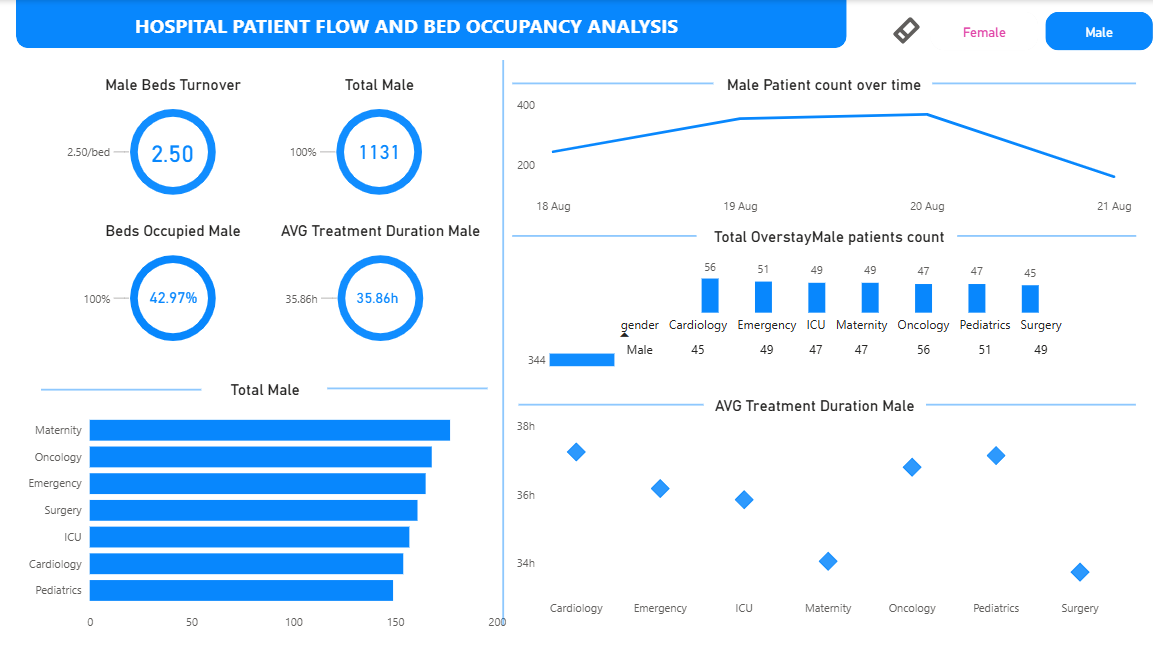

What the dashboard file says about the page in this screenshot:
{"tool":"powerbi","page":{"name":"Hoapital_Dashboard","canvas":[1280,720],"ordinal":0},"visuals":[{"type":"donutChart","fields":{"Y":["Sum(vw_patient_demographics.total_patients)"],"Category":["vw_patient_demographics.gender"]},"box":[281,82,290,150],"z":0},{"type":"lineChart","fields":{"Y":["Sum(vw_patient_volume_trend.patient_count)"],"Series":["vw_patient_volume_trend.gender"],"Category":["vw_patient_volume_trend.admission_date.Variation.Date Hierarchy.Year","vw_patient_volume_trend.admission_date.Variation.Date Hierarchy.Quarter","vw_patient_volume_trend.admission_date.Variation.Date Hierarchy.Month","vw_patient_volume_trend.admission_date.Variation.Date Hierarchy.Day"]},"box":[571.9,81.7,684.7,162.4],"z":1000},{"type":"barChart","fields":{"Category":["vw_department_inflow.department"],"Y":["Sum(vw_department_inflow.patient_count)"],"Series":["vw_department_inflow.gender"]},"box":[32,417,539,284],"z":2000},{"type":"pivotTable","fields":{"Values":["Sum(vw_overstay_patients.overstay_count)"],"Rows":["vw_overstay_patients.gender"],"Columns":["vw_overstay_patients.department"]},"box":[681,340,559,79],"z":3000},{"type":"donutChart","fields":{"Category":["vw_bed_turnover_rate.gender"],"Y":["Sum(vw_bed_turnover_rate.bed_turnover_rate)"]},"box":[55,82,290,150],"z":4000},{"type":"advancedSlicerVisual","fields":{"Values":["dim_patient.gender"]},"box":[1026,8,254,52],"z":5000},{"type":"scatterChart","fields":{"X":["vw_avg_treatment_duration.department"],"Y":["Sum(vw_avg_treatment_duration.avg_treatment_duration)"],"Series":["vw_avg_treatment_duration.gender"]},"box":[572,435,664,251],"z":6000},{"type":"clusteredBarChart","fields":{"Category":["vw_overstay_patients.gender"],"Y":["Sum(vw_overstay_patients.overstay_count)"]},"box":[584,357,105,70],"z":7000},{"type":"clusteredColumnChart","fields":{"Category":["vw_overstay_patients.department"],"Y":["Sum(vw_overstay_patients.overstay_count)"]},"box":[775,274,382,75],"z":8000},{"type":"card","fields":{"Values":["Sum(vw_patient_demographics.total_patients)"]},"box":[357,142,139,51],"z":9000},{"type":"card","fields":{"Values":["Sum(vw_bed_turnover_rate.bed_turnover_rate)"]},"box":[106,127,187,81],"z":10000},{"type":"donutChart","fields":{"Y":["Avg(vw_avg_treatment_duration.avg_treatment_duration)"],"Category":["vw_avg_treatment_duration.gender"]},"box":[282.1,243.3,290,150],"z":11000},{"type":"donutChart","fields":{"Series":["vw_bed_occupancy.gender"],"Y":["Sum(vw_bed_occupancy.bed_occupancy_percent)"]},"box":[55,243,290,150],"z":12000},{"type":"card","fields":{"Values":["Avg(vw_avg_treatment_duration.avg_treatment_duration)"]},"box":[369,302.2,114.4,52.2],"z":13000},{"type":"card","fields":{"Values":["Sum(vw_bed_occupancy.bed_occupancy_percent)"]},"box":[129.8,301.1,144.4,53.3],"z":14000},{"type":"shape","box":[27,0,912,53],"z":15000},{"type":"textbox","box":[659.5,250,520.4,29.2],"z":16000},{"type":"textbox","box":[27.4,8.2,857.6,38.4],"z":17000},{"type":"shape","box":[545,66,35,620],"z":18000},{"type":"shape","box":[368.6,417.3,176,18.5],"z":19000},{"type":"shape","box":[1060.2,250,196.5,18.5],"z":20000},{"type":"shape","box":[579.7,434.8,203.3,18.5],"z":21000},{"type":"shape","box":[55.4,418.2,176,18.5],"z":25000},{"type":"shape","box":[572.9,81.7,220.8,18.5],"z":26000},{"type":"shape","box":[1032.9,81.7,223.7,18.5],"z":27000},{"type":"shape","box":[572.9,250,202.3,18.5],"z":28000},{"type":"shape","box":[1026.1,434.8,230.5,18.5],"z":29000},{"type":"actionButton","box":[987.2,15.6,38.9,37],"z":30000}]}

Visuals, with their boxes in screenshot pixels (x1, y1, x2, y2), scaled from the page's 1280x720 canvas onto the 1153x652 screenshot:
donutChart - Sum(vw_patient_demographics.total_patients) x vw_patient_demographics.gender: 253:74:514:210
lineChart - Sum(vw_patient_volume_trend.patient_count) x vw_patient_volume_trend.gender: 515:74:1132:221
barChart - vw_department_inflow.department x Sum(vw_department_inflow.patient_count): 29:378:514:635
pivotTable - Sum(vw_overstay_patients.overstay_count) x vw_overstay_patients.gender: 613:308:1117:379
donutChart - vw_bed_turnover_rate.gender x Sum(vw_bed_turnover_rate.bed_turnover_rate): 50:74:311:210
advancedSlicerVisual - dim_patient.gender: 924:7:1152:54
scatterChart - vw_avg_treatment_duration.department x Sum(vw_avg_treatment_duration.avg_treatment_duration): 515:394:1113:621
clusteredBarChart - vw_overstay_patients.gender x Sum(vw_overstay_patients.overstay_count): 526:323:621:387
clusteredColumnChart - vw_overstay_patients.department x Sum(vw_overstay_patients.overstay_count): 698:248:1042:316
card - Sum(vw_patient_demographics.total_patients): 322:129:447:175
card - Sum(vw_bed_turnover_rate.bed_turnover_rate): 95:115:264:188
donutChart - Avg(vw_avg_treatment_duration.avg_treatment_duration) x vw_avg_treatment_duration.gender: 254:220:515:356
donutChart - vw_bed_occupancy.gender x Sum(vw_bed_occupancy.bed_occupancy_percent): 50:220:311:356
card - Avg(vw_avg_treatment_duration.avg_treatment_duration): 332:274:435:321
card - Sum(vw_bed_occupancy.bed_occupancy_percent): 117:273:247:321
shape: 24:0:846:48
textbox: 594:226:1063:253
textbox: 25:7:797:42
shape: 491:60:522:621
shape: 332:378:491:395
shape: 955:226:1132:243
shape: 522:394:705:410
shape: 50:379:208:395
shape: 516:74:715:91
shape: 930:74:1132:91
shape: 516:226:698:243
shape: 924:394:1132:410
actionButton: 889:14:924:48
